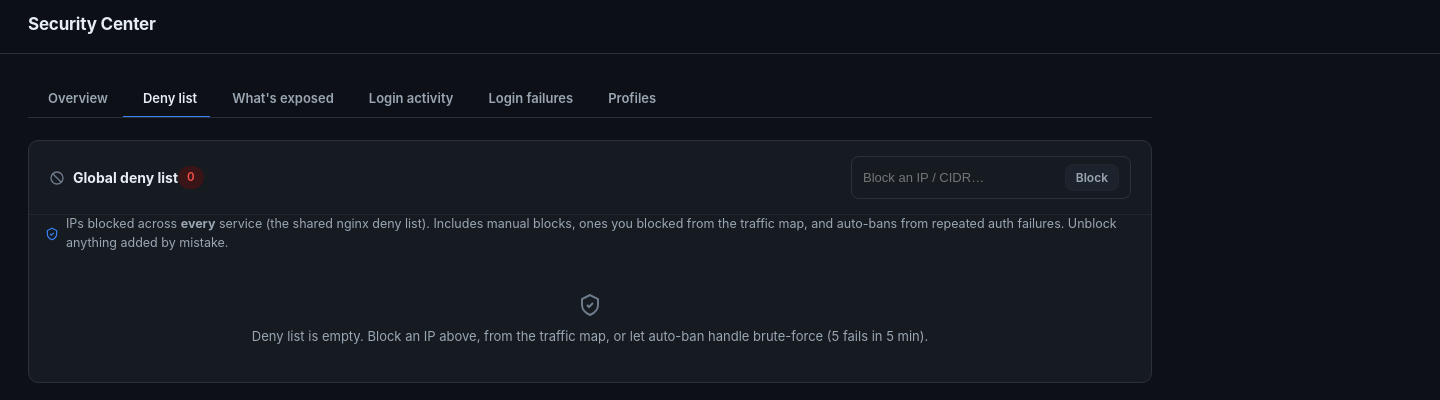
it: SecurityCenter — deny list › disables Block for an invalid target and enables it for a valid IP
Check: the button "Block" is disabled, box [1065,164,1119,191]
Type "203.0.113.5" into the field named "IP address or CIDR range to block".
click(960, 178); type("203.0.113.5")  # box [863,170,1057,185]
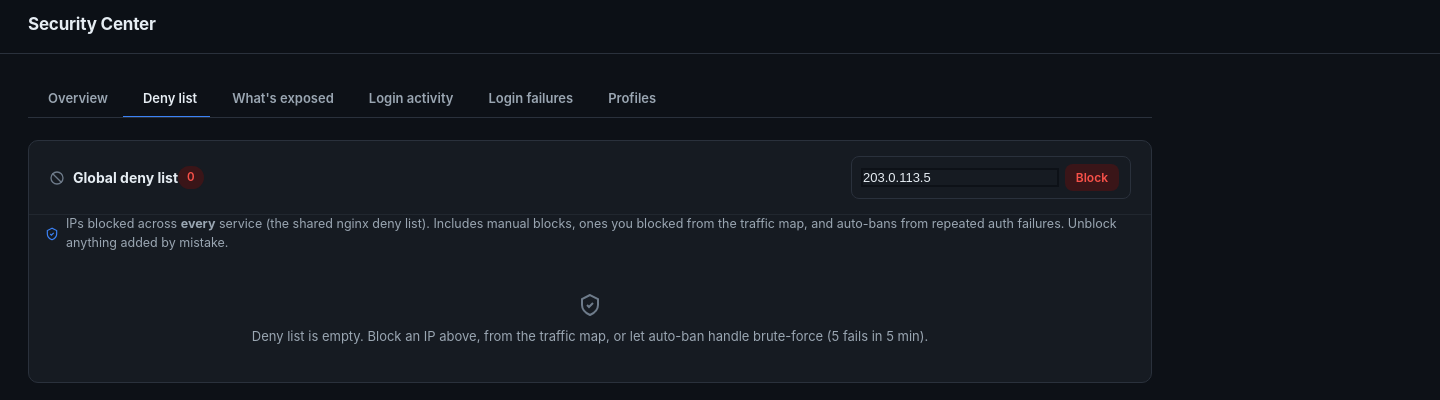
Check: the button "Block" is enabled, box [1065,164,1119,191]
